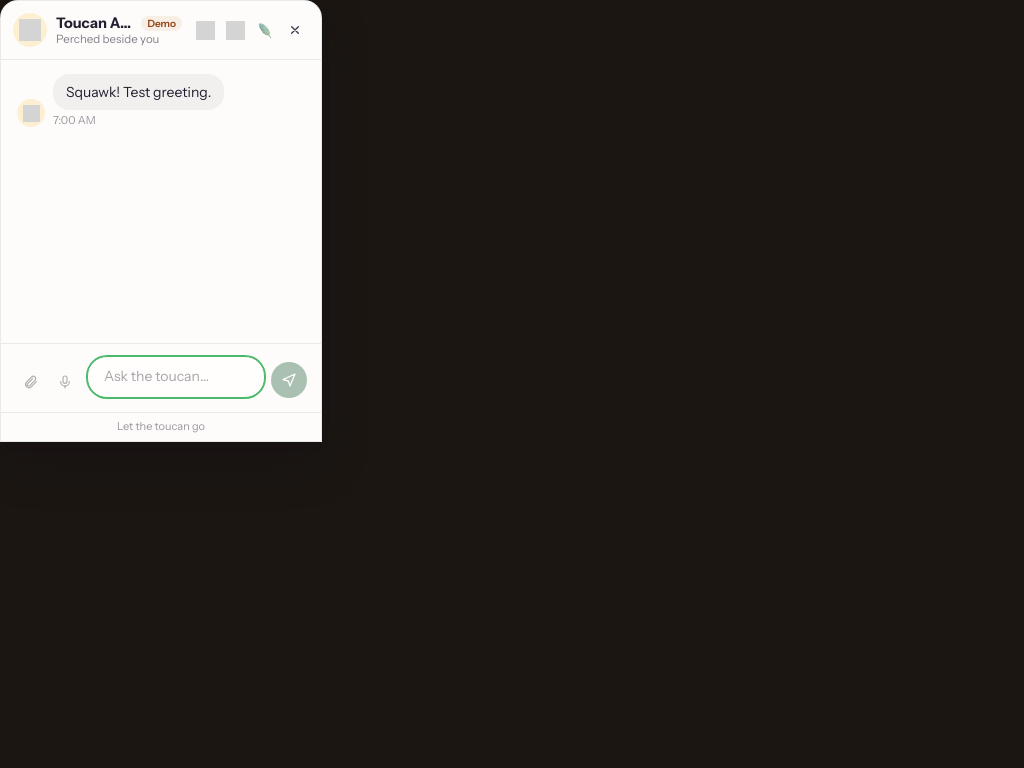
ToucanAssistantPanel — T8 action confirmation › Cancel burns the proposal and applies nothing
The width and height of the screenshot is (1024, 768).
Type "Set me to busy." into the text box named "Message the toucan". click: (176, 377)
box: [87,356,265,398]
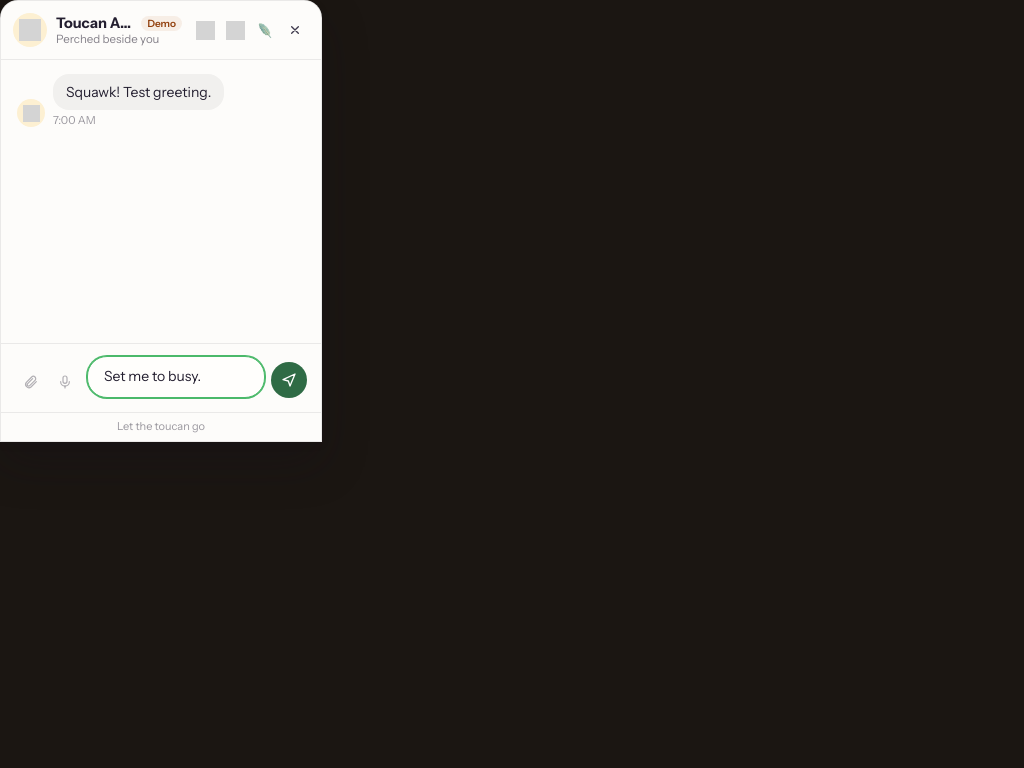
Press Enter in the text box named "Message the toucan", box [87,356,265,398]
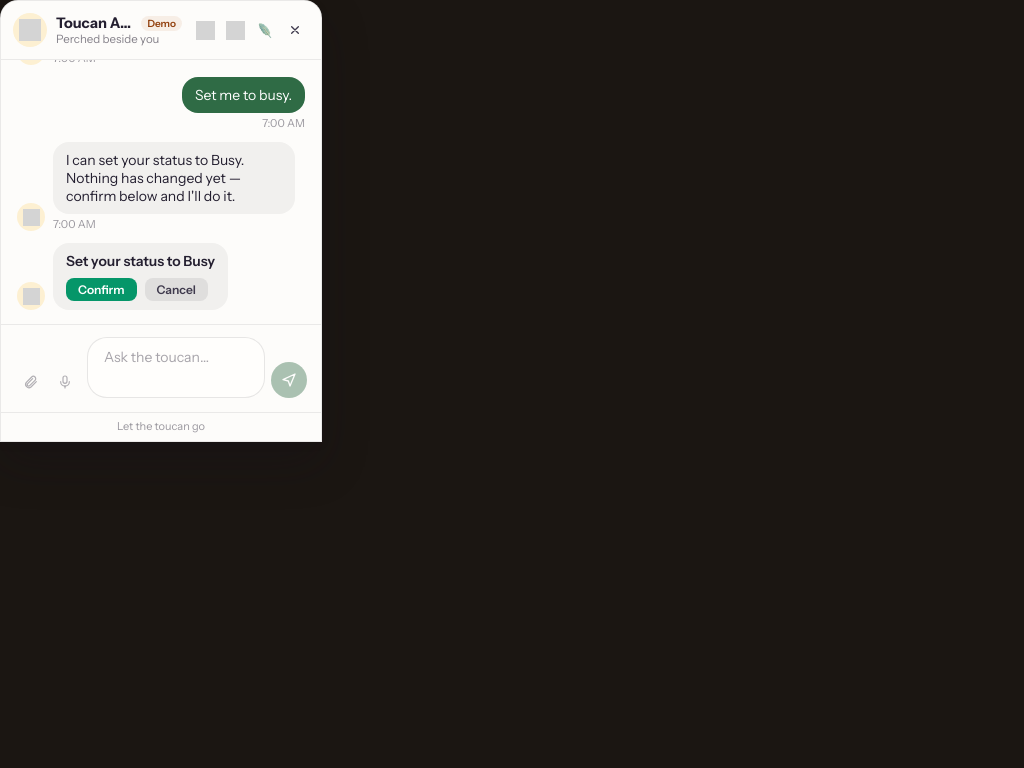
Click the button "Cancel". click: (176, 290)
box: [144,278,208,301]
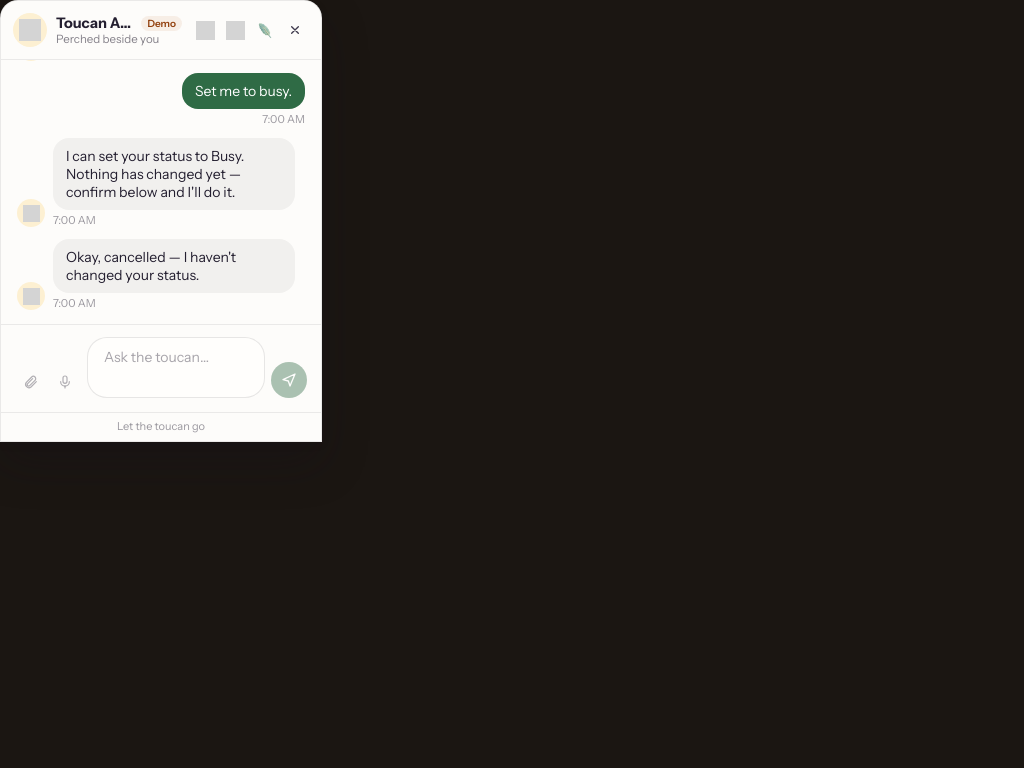
Check: the text "Okay, cancelled — I haven't changed your status." is shown, box [53,239,295,293]
Check: the element with test id "toucan-action-card" is gone
